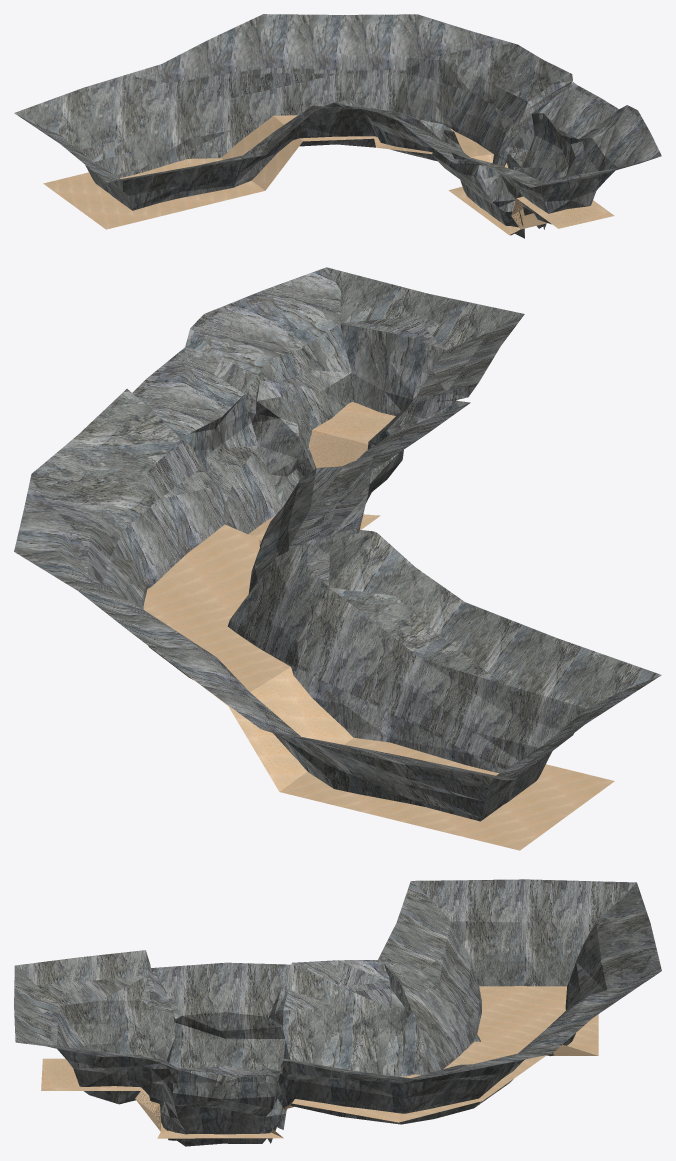
File: leveltwo.glb
3 views of the same model, one above another, from view 1: azimuth 30°, elevation 25°; view 2: azimuth 150°, elevation 25°; view 3: azimuth 270°, elevation 25° (orthographic). The views are drawn at different scales.
Visible parts, largest first — view 1: Plane, Plane.001; view 2: Plane, Plane.001; view 3: Plane, Plane.001.
Boxes of the visible parts, x1,y1,x2,y2 form: Plane: [14, 14, 661, 238]; Plane.001: [43, 115, 614, 235]; Plane: [14, 267, 661, 821]; Plane.001: [143, 402, 614, 850]; Plane: [14, 879, 661, 1146]; Plane.001: [41, 986, 598, 1138].
Size of the model in its own units: 9.04 by 2.67 by 10.23.
2 materials, 2 textured.
